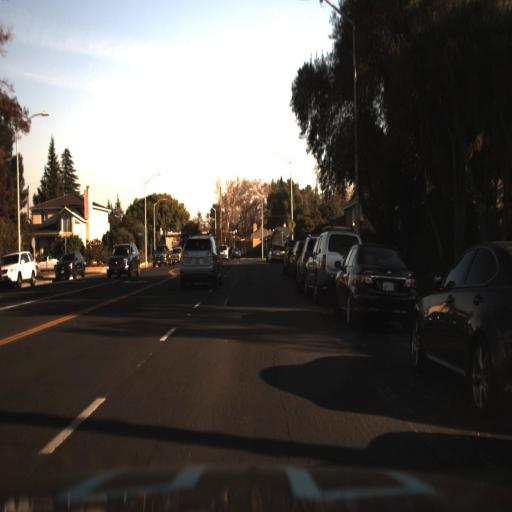car: (407, 238, 512, 410), (333, 238, 423, 323), (303, 227, 363, 304), (178, 230, 224, 294), (0, 250, 38, 290), (105, 242, 140, 278), (54, 251, 87, 282), (152, 243, 171, 270), (230, 237, 246, 261)
